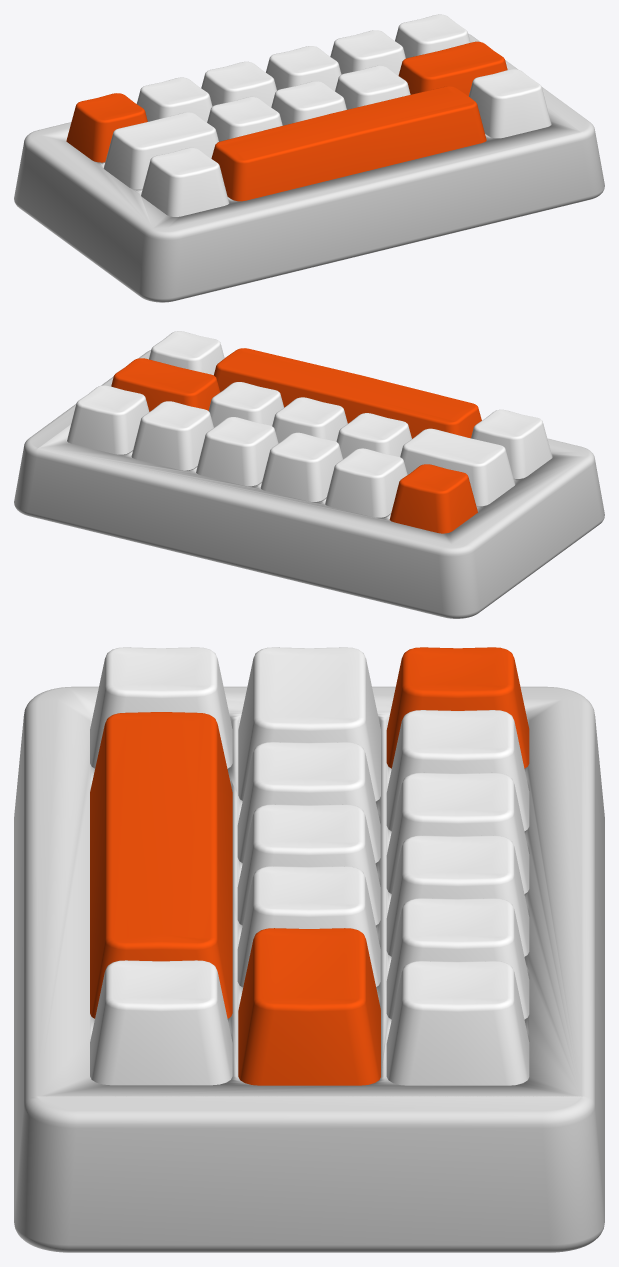
File: keyboard.glb
3 views of the same model, one above another, from view 1: azimuth 30°, elevation 25°; view 2: azimuth 150°, elevation 25°; view 3: azimuth 270°, elevation 25° (orthographic). The views are drawn at different scales.
Visible parts, largest first — view 1: Cube, Cube.005, Cube.001; view 2: Cube, Cube.005, Cube.001; view 3: Cube, Cube.005, Cube.001.
Boxes of the visible parts, bbox=[...] form: Cube: bbox=[14, 34, 604, 302]; Cube.005: bbox=[103, 14, 551, 216]; Cube.001: bbox=[66, 41, 507, 201]; Cube: bbox=[14, 350, 604, 618]; Cube.005: bbox=[67, 331, 552, 517]; Cube.001: bbox=[111, 348, 481, 533]; Cube: bbox=[14, 686, 604, 1252]; Cube.005: bbox=[90, 647, 529, 1085]; Cube.001: bbox=[90, 647, 529, 1085].
Bounding box in the file's own units: 7.45 × 1.61 × 4.14.
